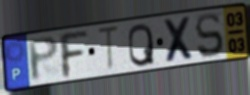F: (56, 29, 91, 80)
P: (26, 34, 61, 84)
Q: (127, 21, 157, 68)
S: (194, 11, 226, 60)
T: (96, 24, 122, 74)
X: (161, 14, 197, 65)
